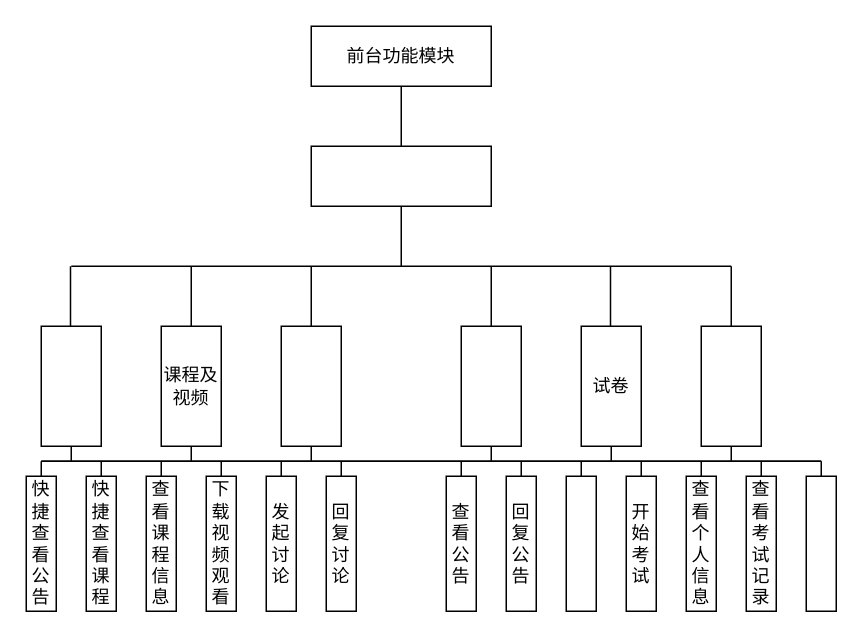
Image size: 863x638. Some labels were removed from this diagram. The box of each missing label's shape, as (x1, y1, x2, y2) in pixels:
个人中心: (700, 325, 761, 446)
公告: (460, 325, 521, 446)
学生登录: (310, 145, 491, 206)
查看发布试卷: (565, 475, 596, 611)
查看错题记录: (805, 475, 836, 611)
讨论: (280, 325, 341, 446)
首页: (40, 325, 101, 446)
